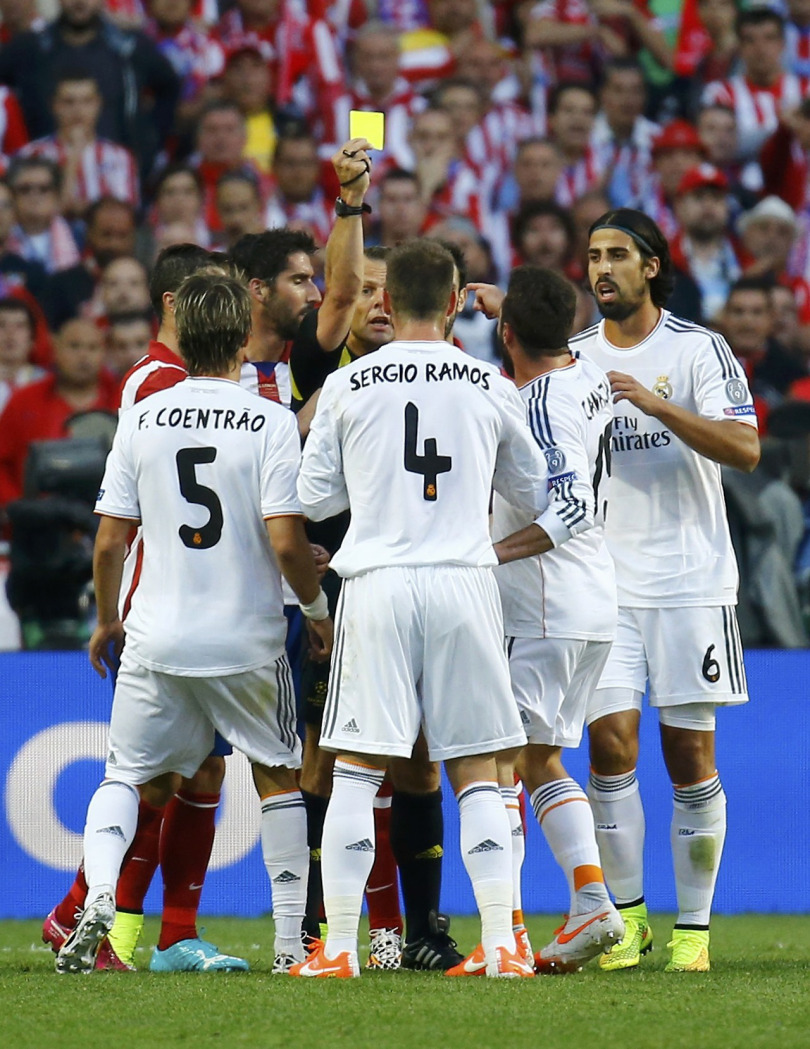yellow_card: (320, 96, 399, 212)
